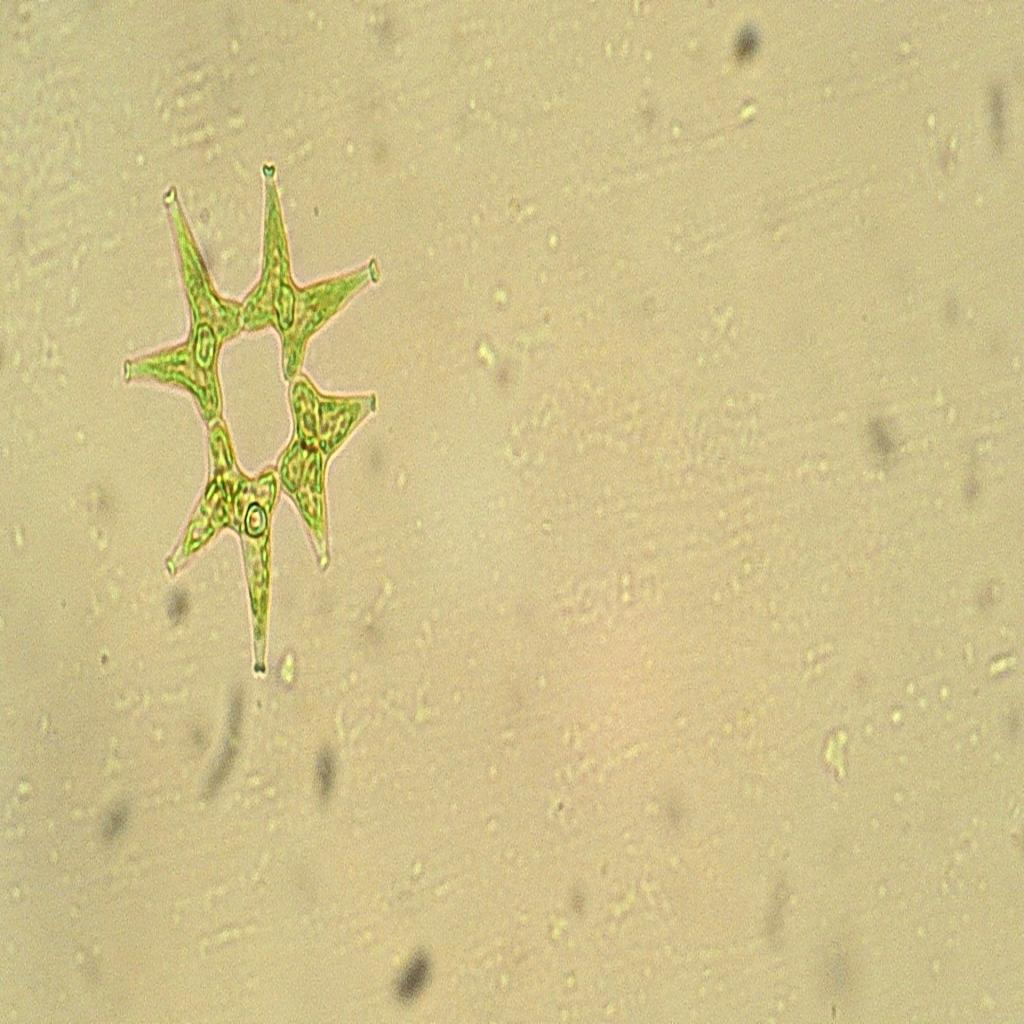Pediastrum_10: (111, 138, 398, 691)
